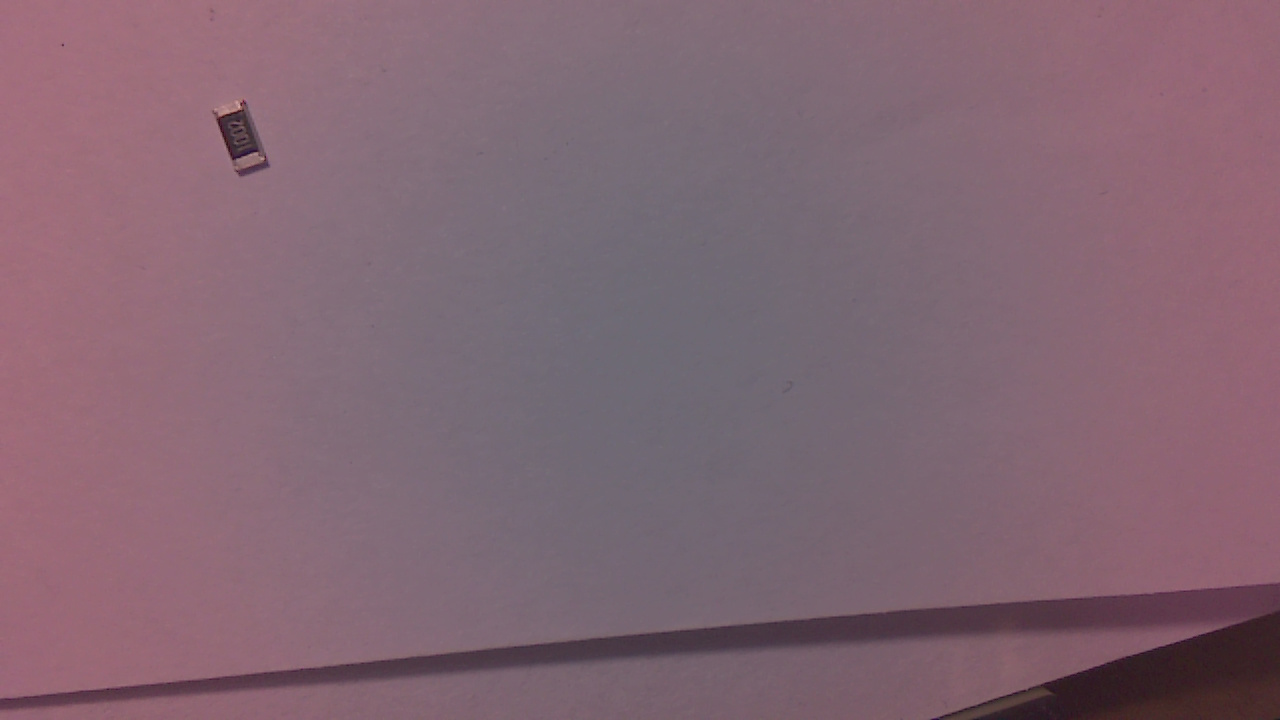Resistor: (217, 103, 276, 182)
